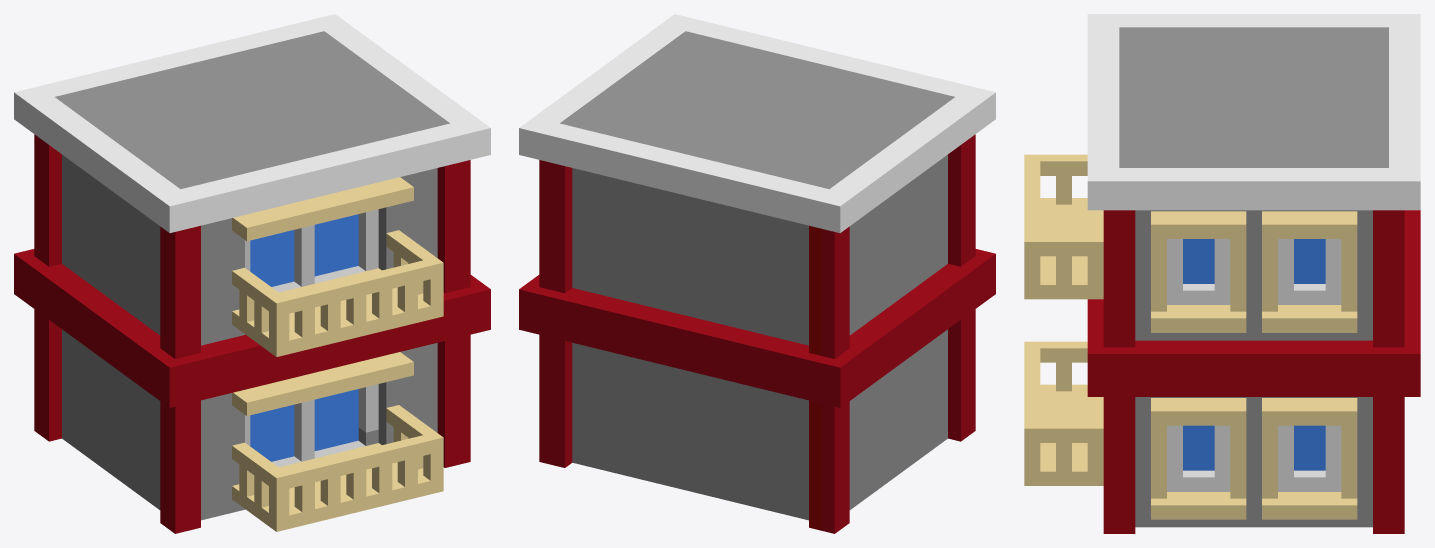
File: thirteenthModel.fbx
3 views of the same model, side by side, from view 1: azimuth 30°, elevation 25°; view 2: azimuth 150°, elevation 25°; view 3: azimuth 270°, elevation 25° (orthographic). The views are drawn at different scales.
Parts seen in each view (by area): view 1: Box; view 2: Box; view 3: Box.
Part boxes in pixels (x1=…): Box: x1=14, y1=14, x2=490, y2=533; Box: x1=519, y1=14, x2=995, y2=533; Box: x1=1024, y1=14, x2=1420, y2=533.
Bounding box in the file's own units: 25 × 25 × 25.
Materials: 1 (1 with a texture image).
